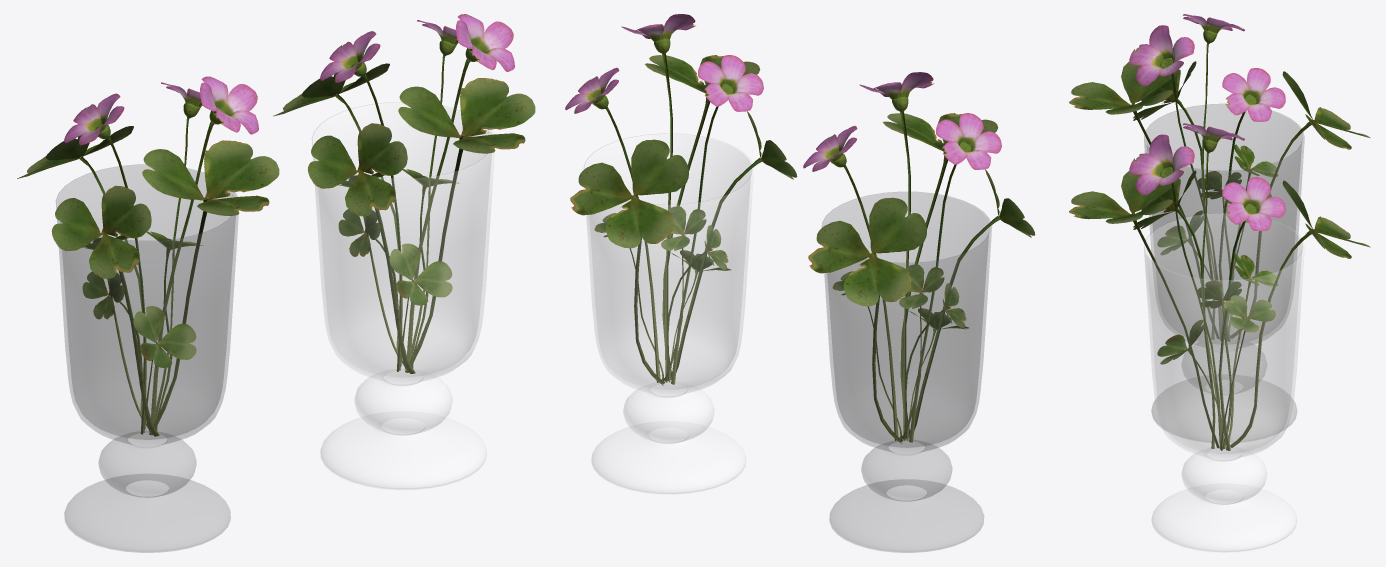
File: vase.glb
The picture shows the model from 3 angles, left to right: view 1: azimuth 30°, elevation 25°; view 2: azimuth 150°, elevation 25°; view 3: azimuth 270°, elevation 25°; orthographic projection. The views are drawn at different scales.
Parts seen in each view (by area): view 1: GlassAlpha, GlassTransmission, Flowers2, Flowers1; view 2: GlassAlpha, GlassTransmission, Flowers2, Flowers1; view 3: GlassTransmission, GlassAlpha, Flowers2, Flowers1.
Boxes of the visible parts, x1,y1,x2,y2 form: GlassAlpha: [56, 164, 238, 552]; GlassTransmission: [312, 102, 494, 490]; Flowers2: [273, 14, 535, 373]; Flowers1: [17, 76, 279, 436]; GlassAlpha: [822, 192, 991, 552]; GlassTransmission: [584, 133, 753, 494]; Flowers2: [565, 14, 797, 385]; Flowers1: [803, 72, 1035, 443]; GlassTransmission: [1144, 213, 1304, 552]; GlassAlpha: [1144, 104, 1304, 442]; Flowers2: [1069, 123, 1370, 450]; Flowers1: [1069, 14, 1370, 341].
Bounding box in the file's own units: 0.2173 × 0.2032 × 0.1425.
Materials: 3 (1 with a texture image).
